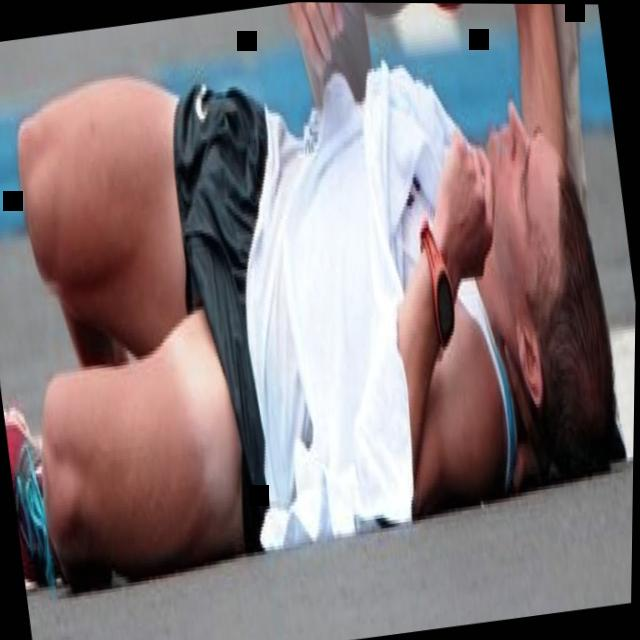Fall-Detected: (0, 0, 640, 614)
